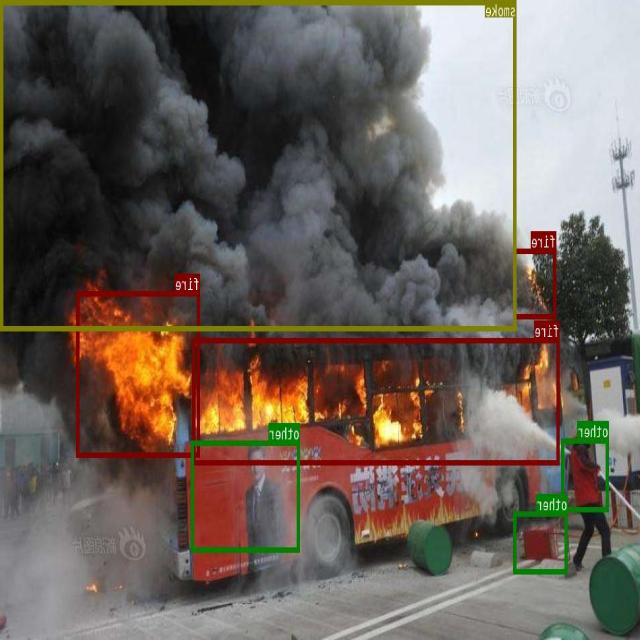fire: (193, 337, 560, 464), (77, 291, 200, 457), (514, 248, 557, 317)
other: (192, 440, 300, 551), (562, 437, 609, 511), (514, 511, 568, 573)
smoke: (2, 0, 518, 329)
